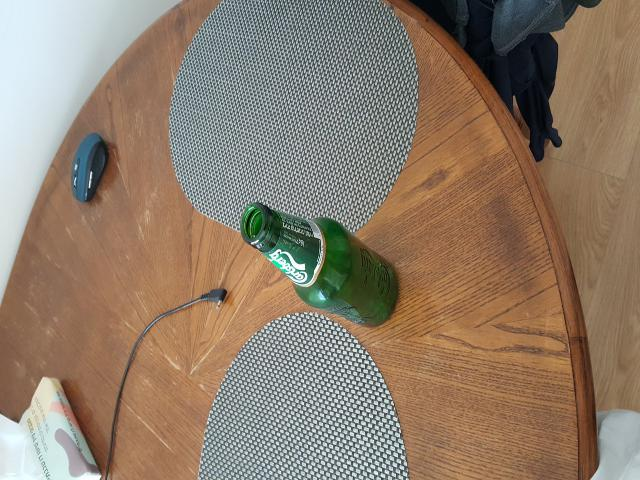beer: (241, 201, 401, 333)
